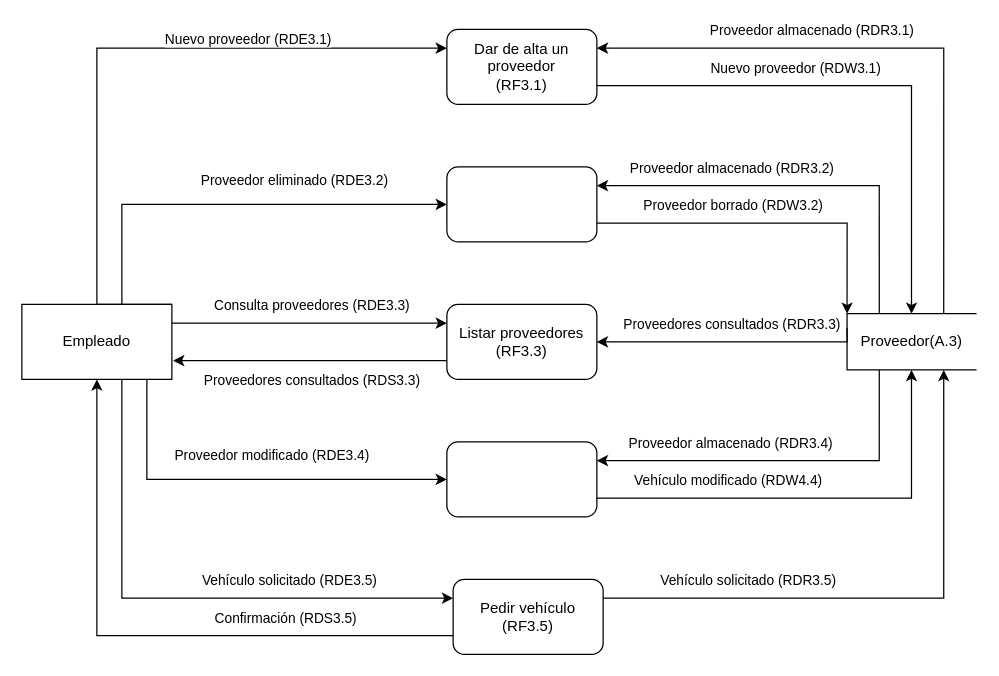
Image size: 999x676. Some labels were removed from this diagram. Here are the shapes that lost their labels. From the top down, the centre of each, then its label:
At point (521, 204): "Dar de baja a un proveedor (RF3.2)".
At point (521, 479): "Modificar proveedor (RF3.4)".
